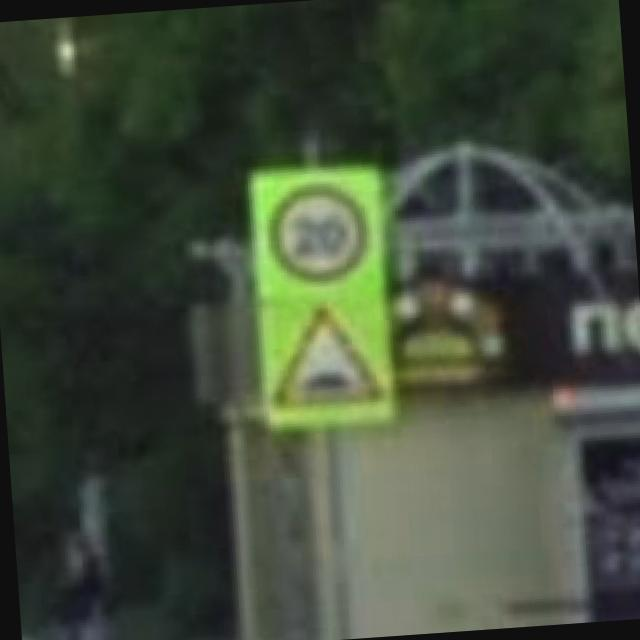Ograniczenie predkosci do 20: (264, 176, 378, 290)
